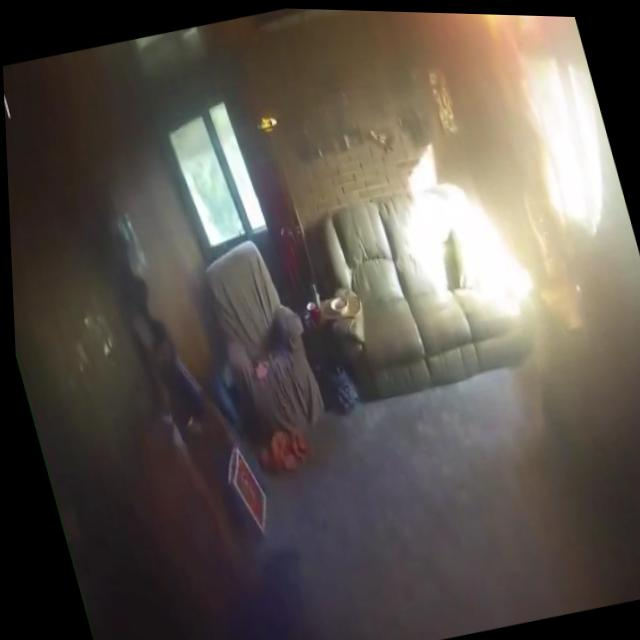fire: (424, 10, 562, 36)
